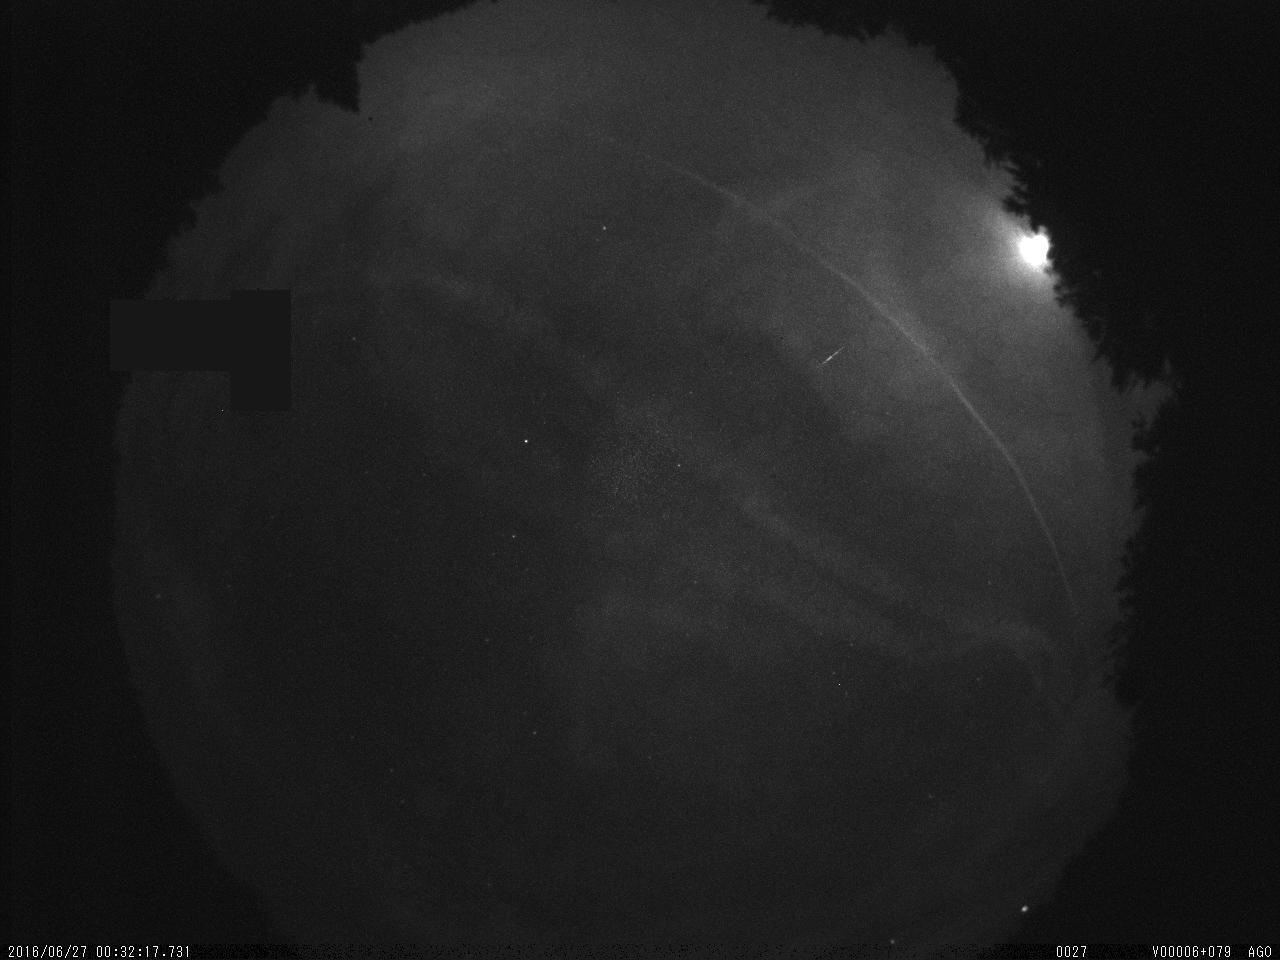meteor: (807, 332, 863, 375)
